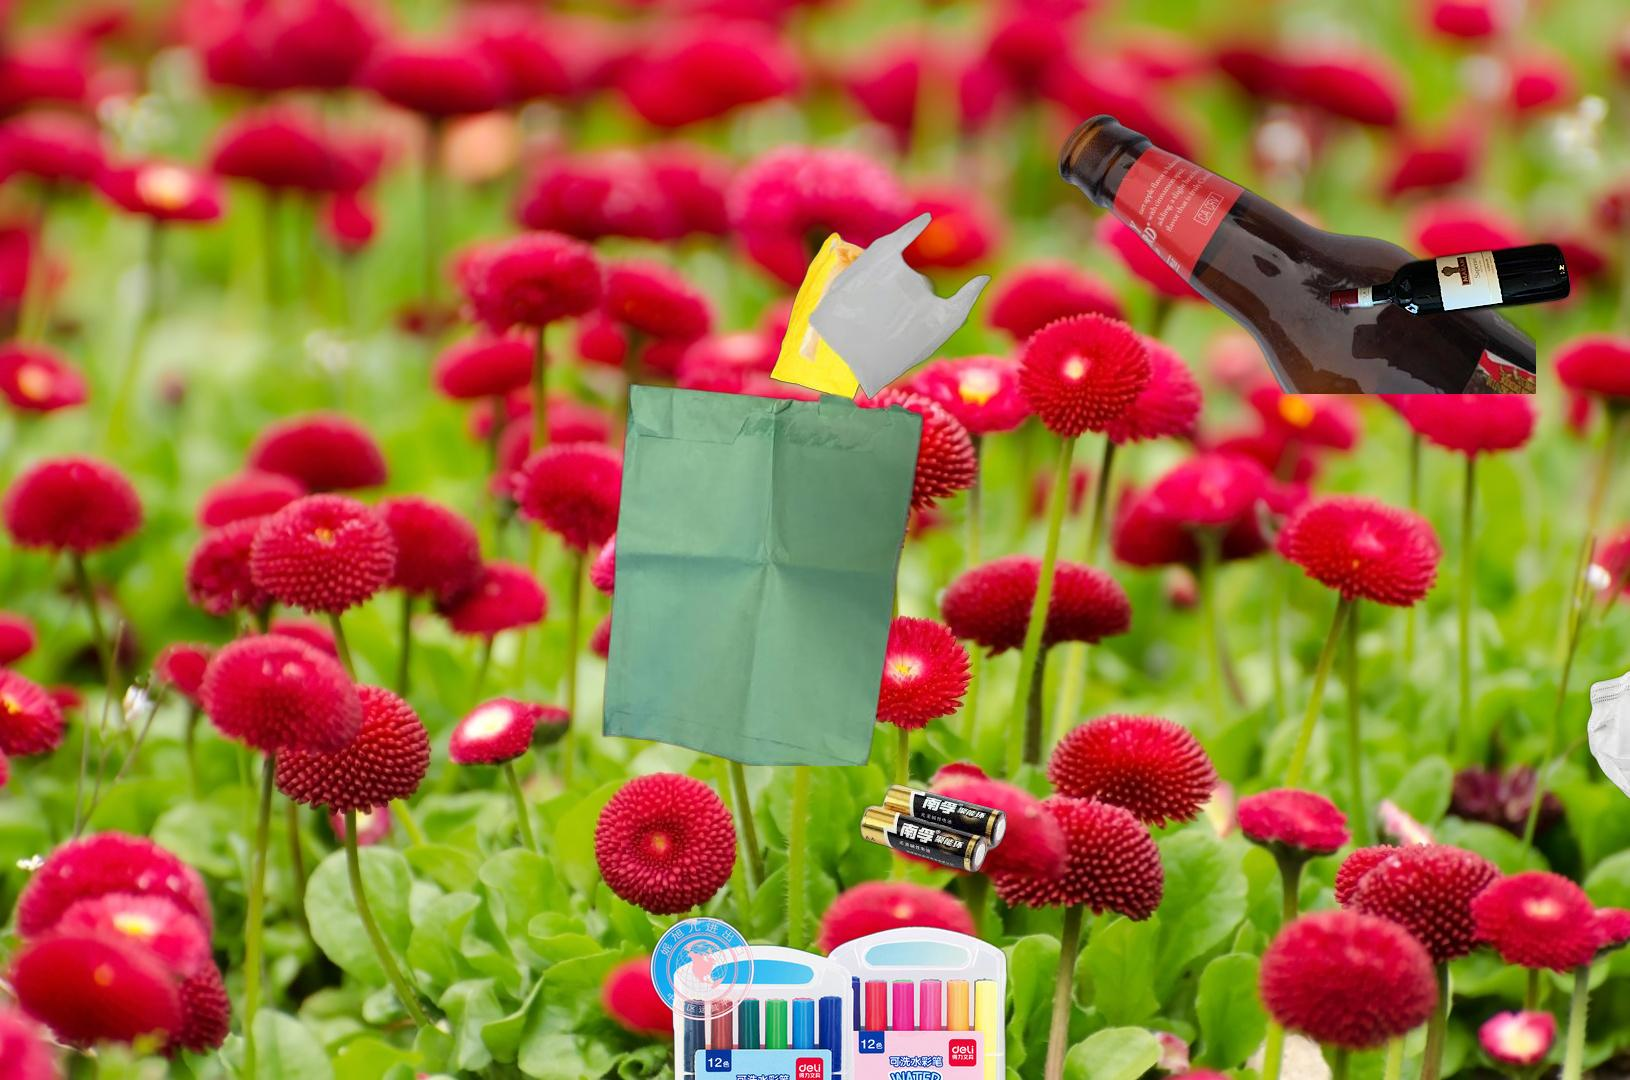battery: (857, 781, 1010, 875)
glass: (1054, 112, 1536, 394), (1325, 237, 1575, 323)
paper: (599, 382, 929, 765), (1563, 720, 1630, 1080)
penholder: (646, 912, 1028, 1080)
plastic-bag: (767, 210, 1032, 419)
trash: (1584, 667, 1630, 812)
